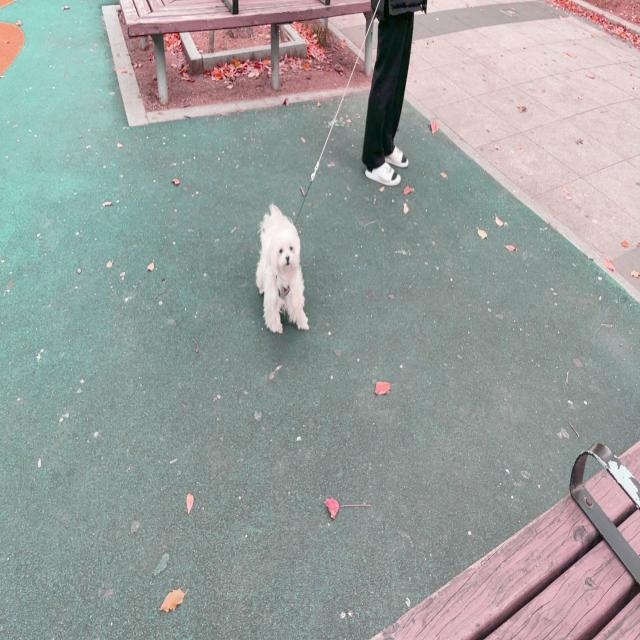Leashed_Dog: (255, 0, 403, 334)
